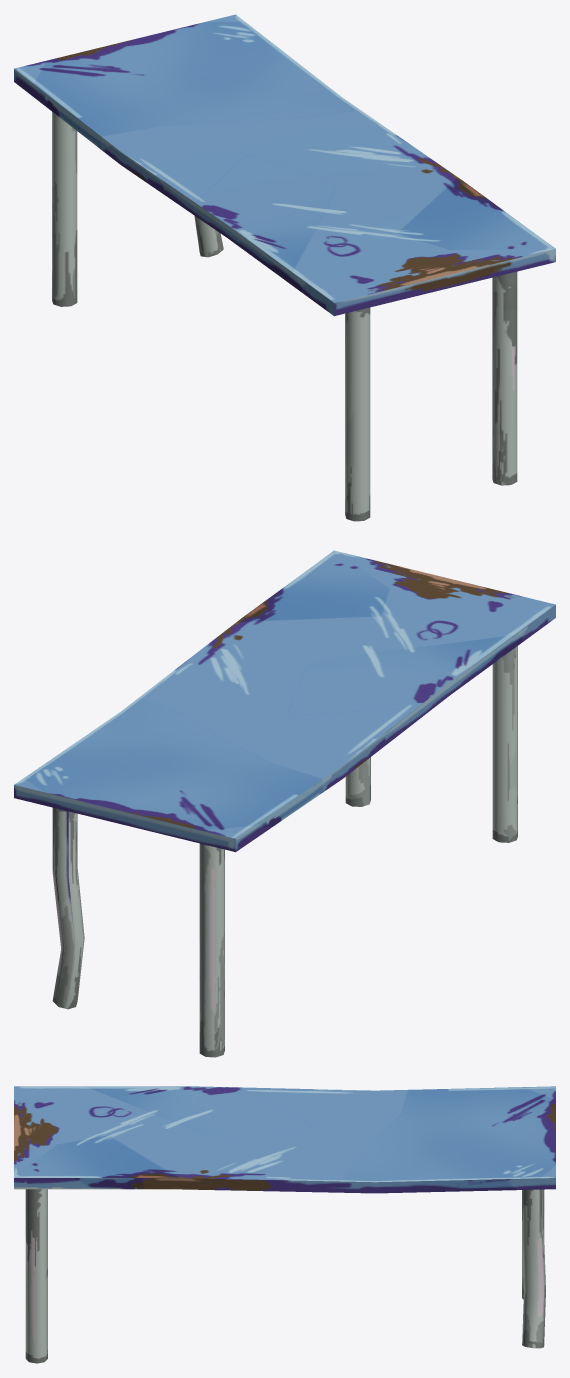
File: Desk_1.fbx
3 views of the same model, one above another, from view 1: azimuth 30°, elevation 25°; view 2: azimuth 150°, elevation 25°; view 3: azimuth 270°, elevation 25° (orthographic). The views are drawn at different scales.
Visible parts, largest first — view 1: Desk_1; view 2: Desk_1; view 3: Desk_1.
Part boxes in pixels (x1,y1,x2,y2): Desk_1: (14, 14, 555, 521); Desk_1: (14, 550, 555, 1057); Desk_1: (14, 1086, 555, 1363).
Size of the model in its own units: 0.8 by 0.8 by 2.
